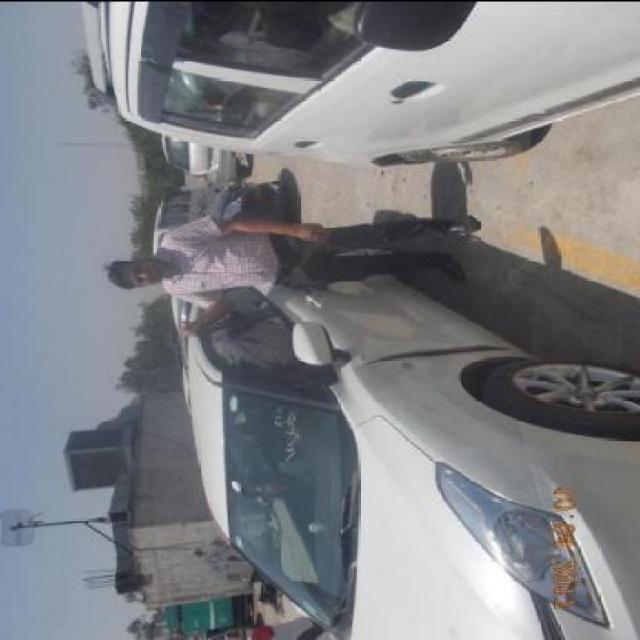damage: (357, 339, 519, 373)
